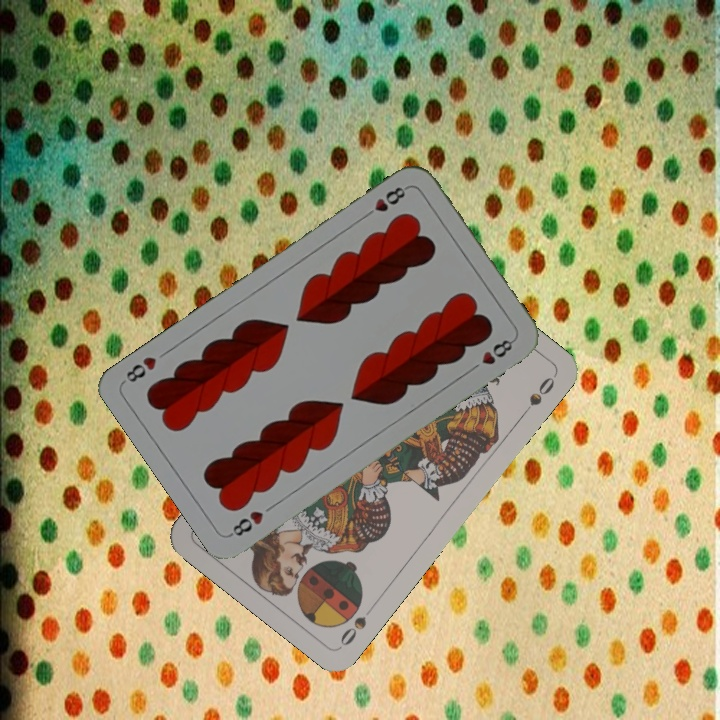H8: (359, 182, 411, 221), (226, 506, 266, 539)
SO: (336, 612, 369, 649)
